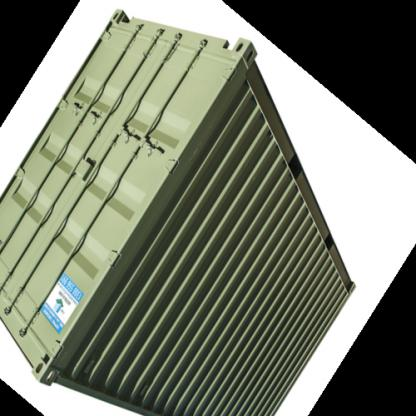Damage: (178, 145, 212, 172)
